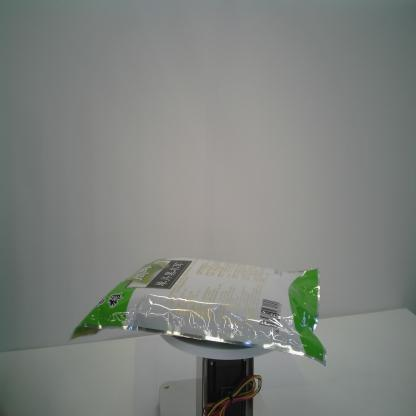Dried Food: (68, 257, 327, 368)
